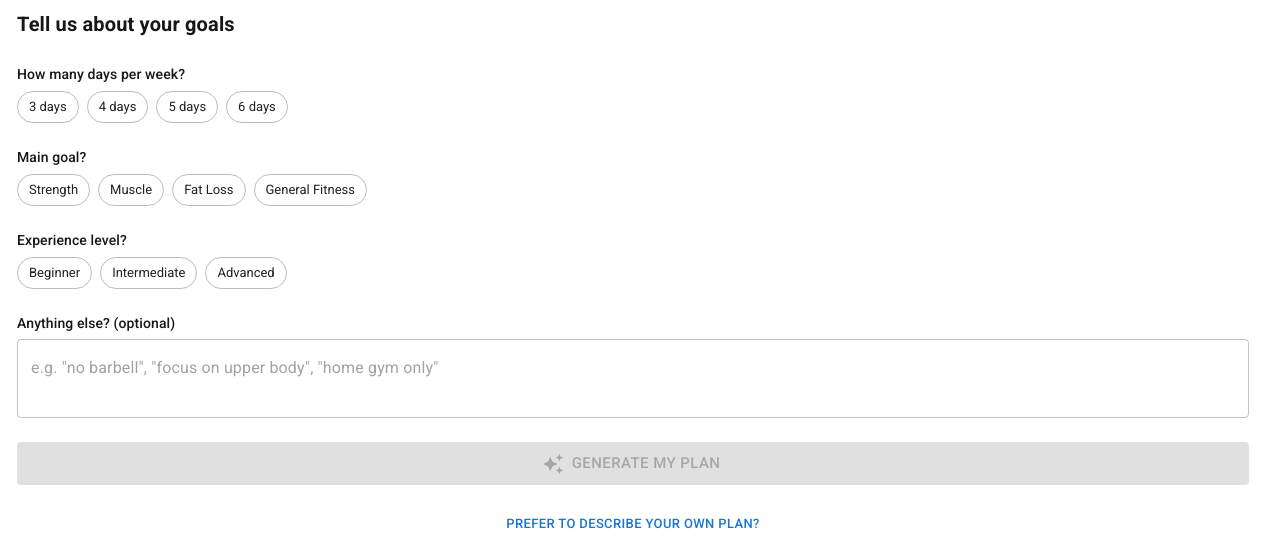
Test: AiFormScreen — rendering › Generate button is enabled when days, goal, and level are all selected
What coordinates should you click on to do the following:
click the button "4 days"
I would click on:
 (118, 107)
Its box is [87, 91, 148, 123].
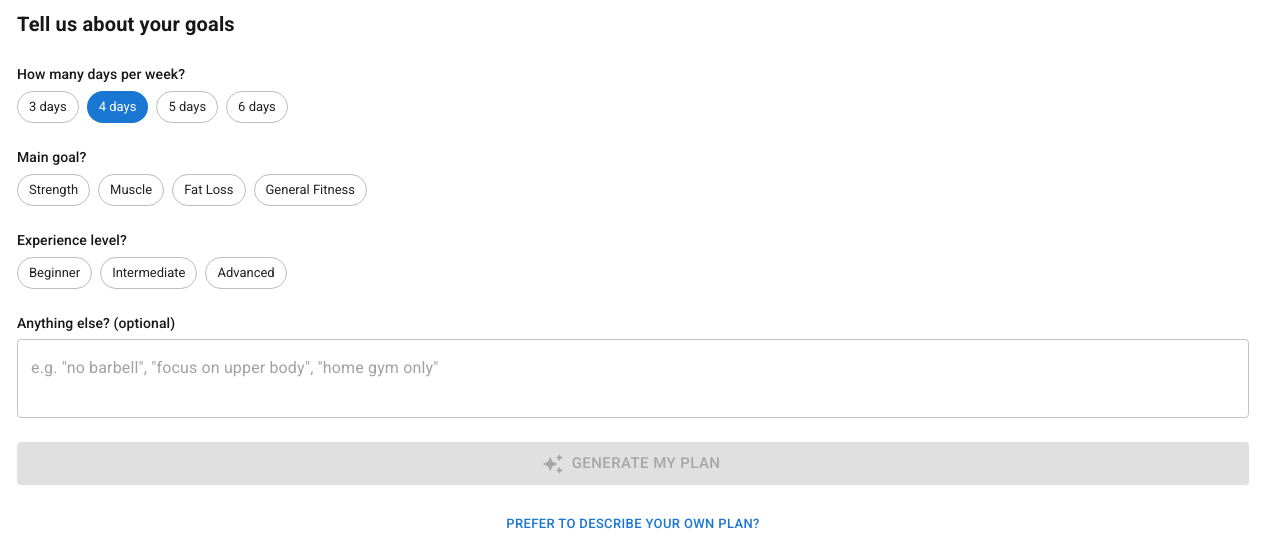
What coordinates should you click on to do the following:
click the button "Muscle"
I would click on:
 (131, 190)
Its box is [98, 174, 164, 206].
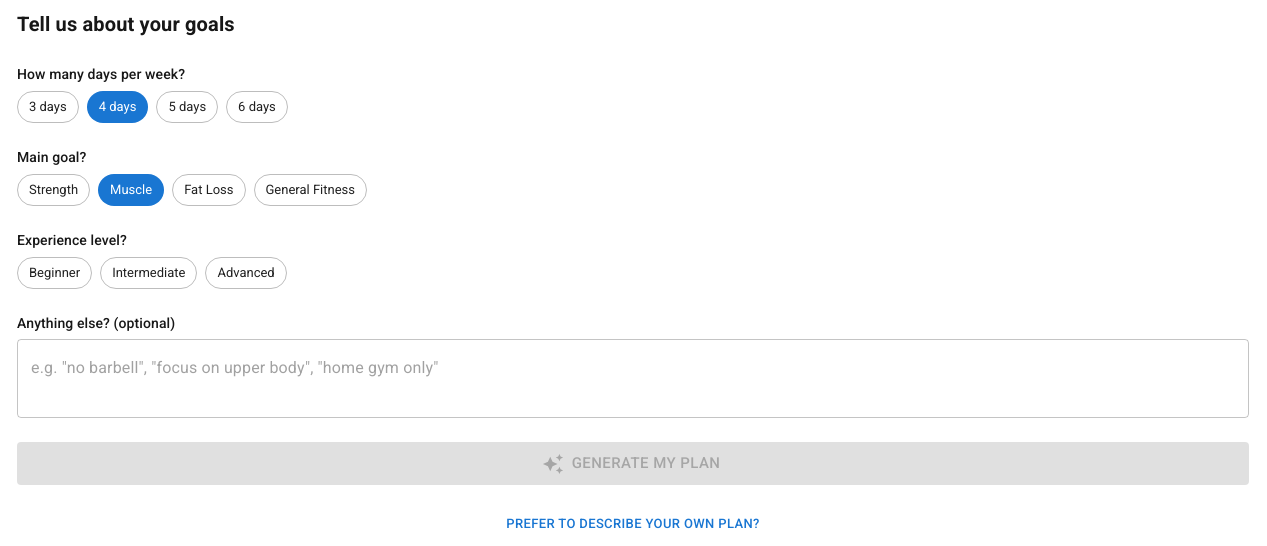
What coordinates should you click on to do the following:
click the button "Intermediate"
I would click on:
 (149, 273)
Its box is [100, 257, 197, 289].
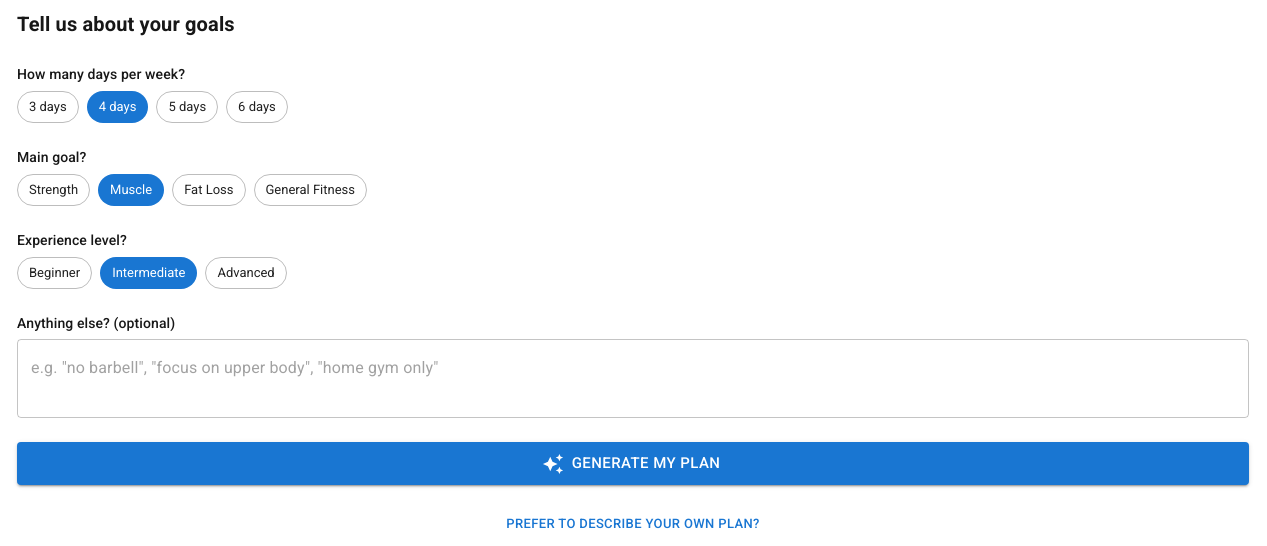
Result: the button "Generate my plan" is enabled at [17, 442, 1249, 485]
